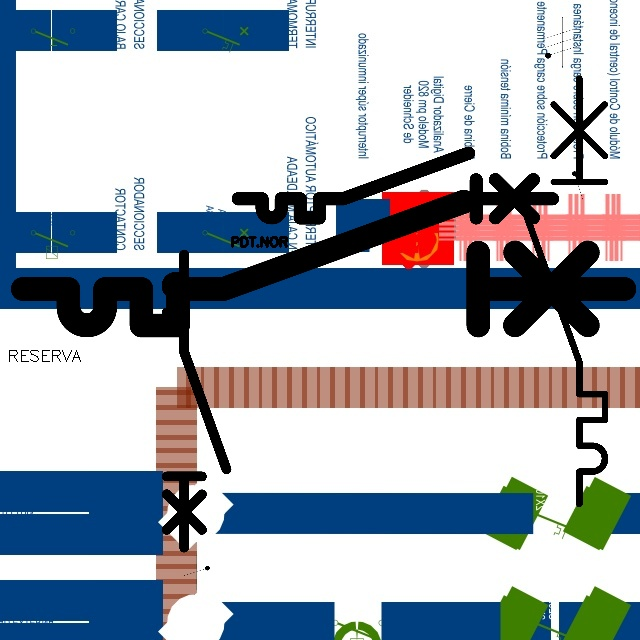interruptor_termomagnetico: (7, 186, 640, 341), (507, 67, 616, 515), (230, 145, 561, 226), (159, 247, 234, 555)
